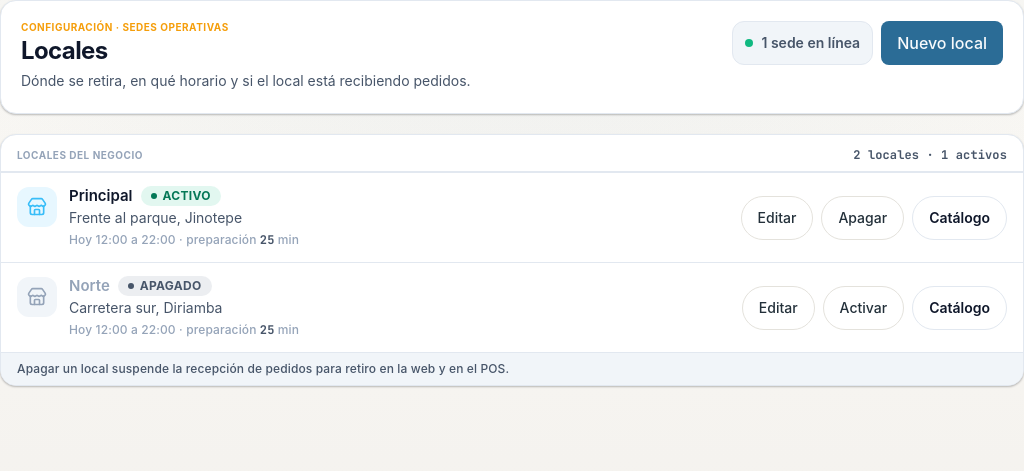
Test: AdminLocationsPage › apaga un local activo de un toque
Click the button with aria-label "Apagar Principal": (863, 218) [821,196,904,240]
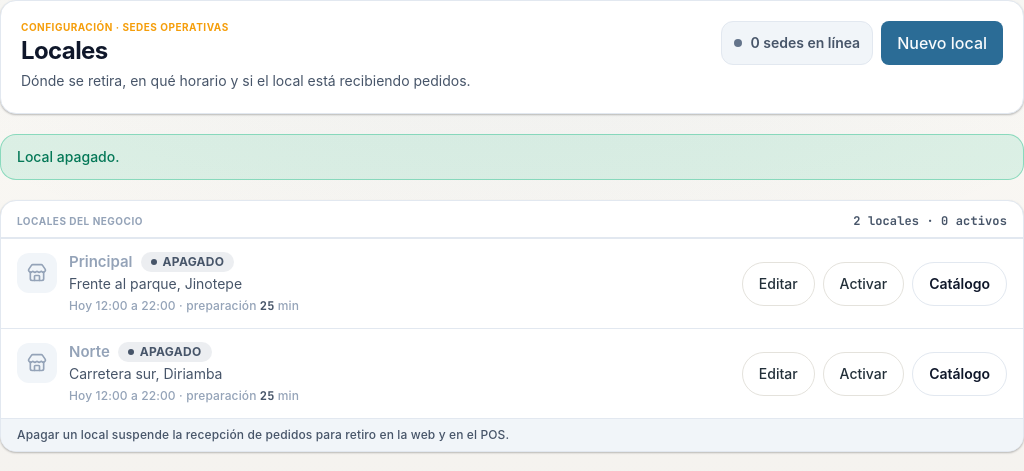
Expected: the text "Local apagado." is shown, [0,134,1023,180]
